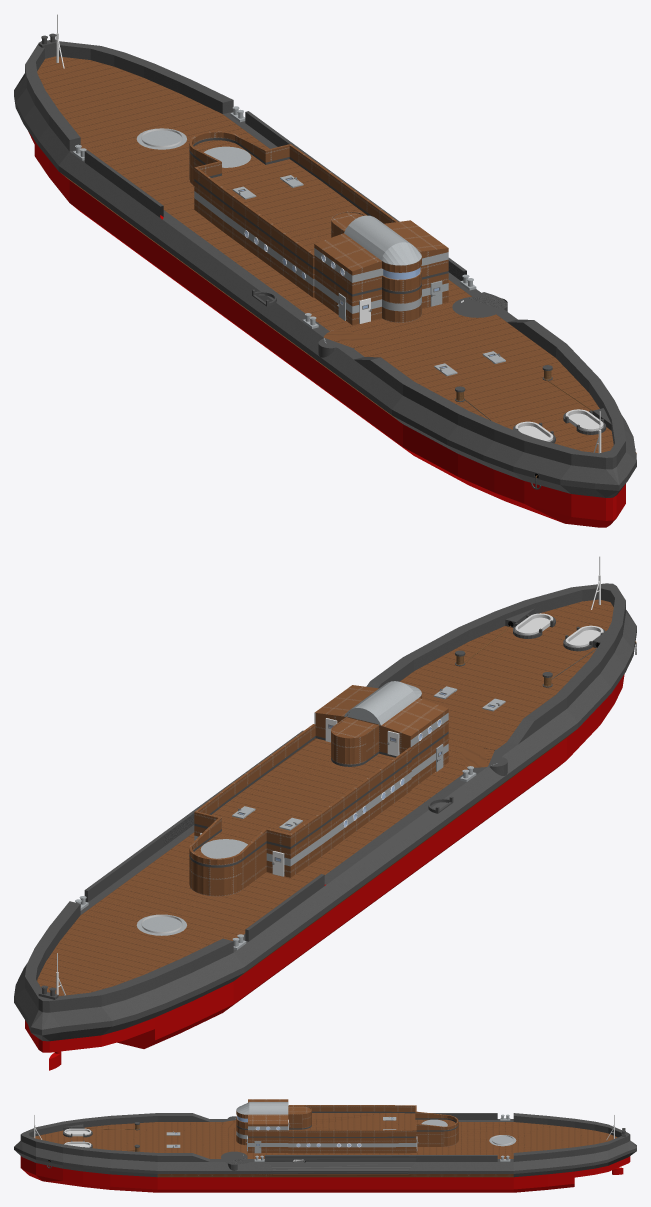
File: the cruise.fbx
3 renders of one model, top to bottom at view 1: azimuth 30°, elevation 25°; view 2: azimuth 150°, elevation 25°; view 3: azimuth 270°, elevation 25°, orthographic. The views are drawn at different scales.
Visible parts, largest first — view 1: Material2.039; view 2: Material2.039; view 3: Material2.039.
Part boxes in pixels (x1,y1,x2,y2): Material2.039: (14, 14, 636, 527); Material2.039: (14, 556, 636, 1070); Material2.039: (14, 1099, 636, 1192).
Size of the model in its own units: 1541 by 1051 by 8362.
